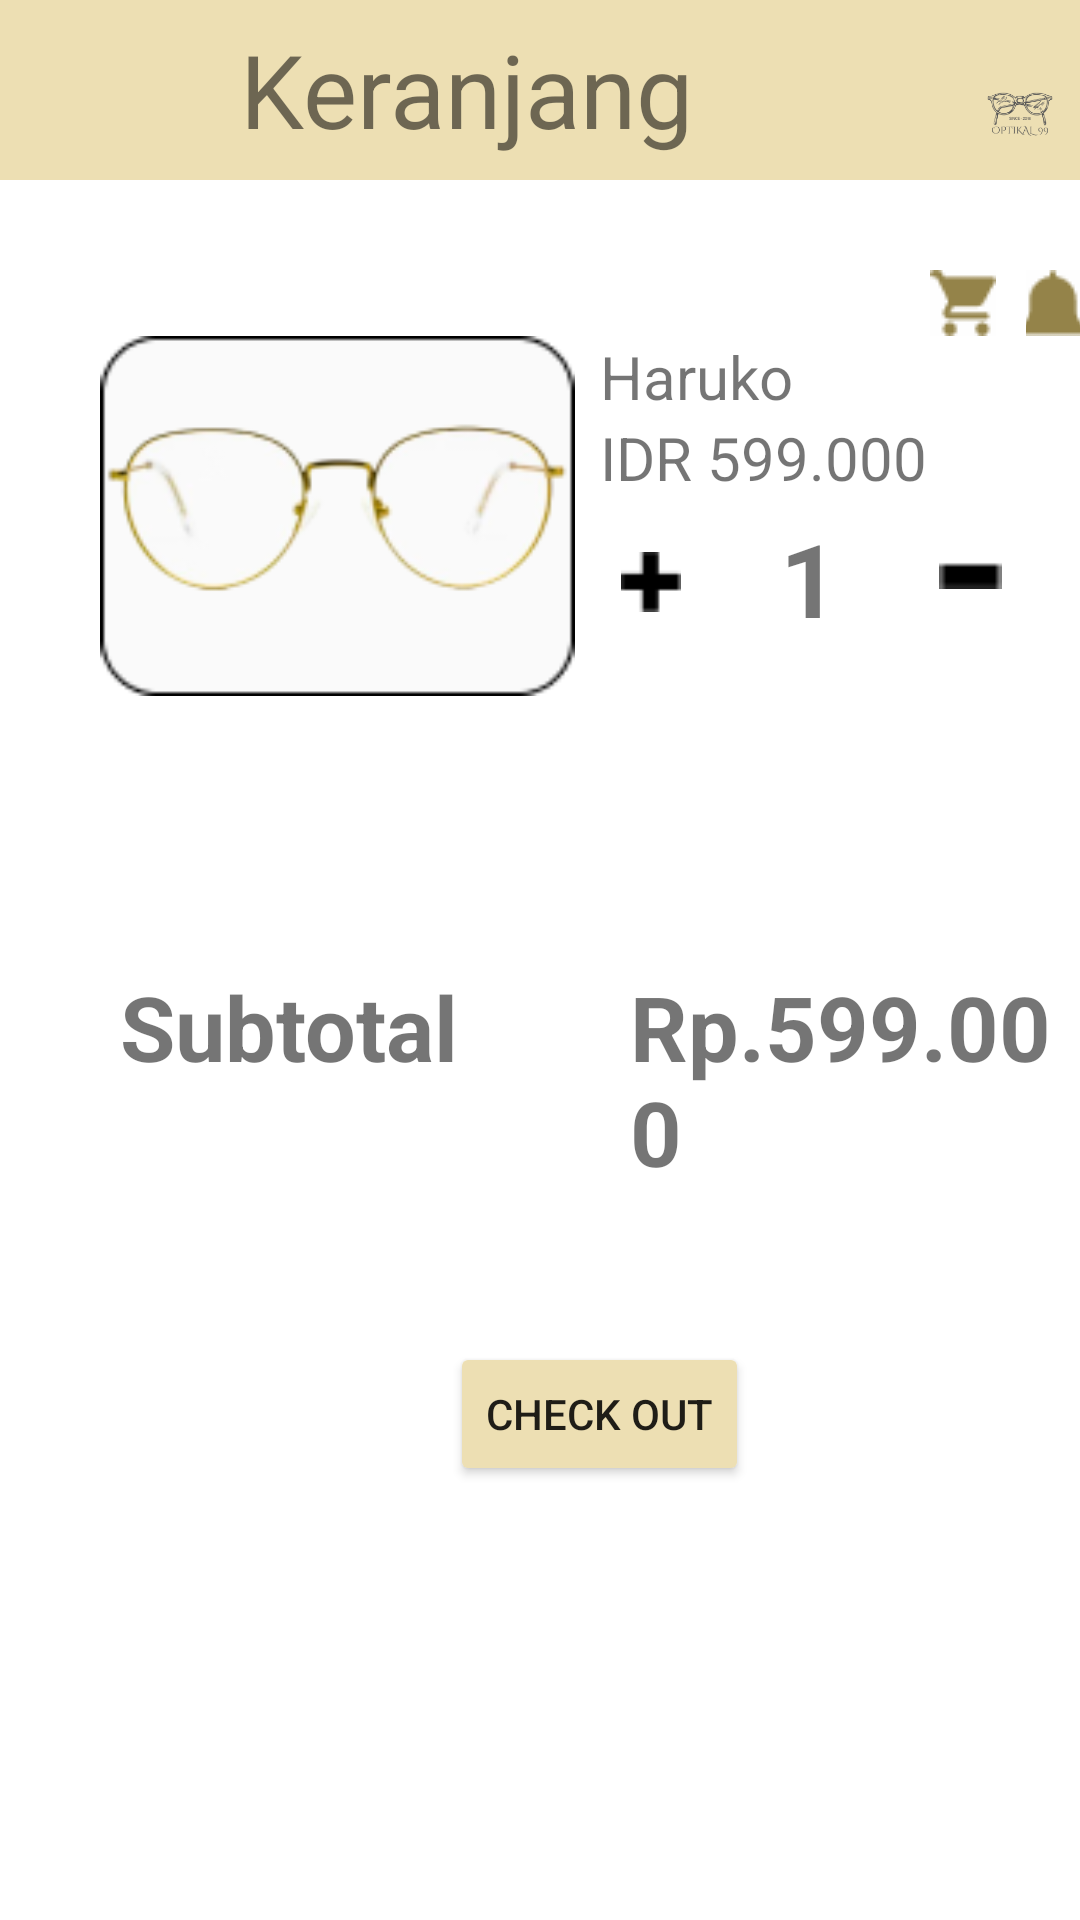

Locate icon controls on the screen. Image size 1080×1920, boxes as (x1, y1, x2, y2).
notification: (1026, 270, 1080, 336)
shop: (930, 270, 996, 336)
